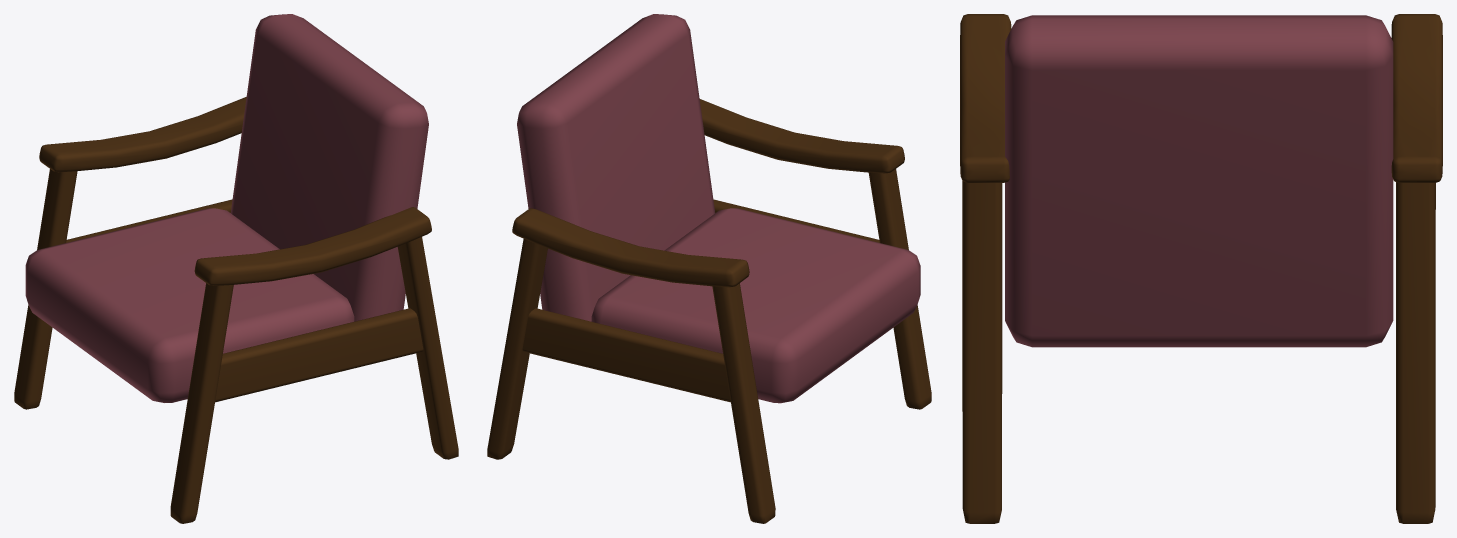
The model's file is armchair_08_red.fbx.
3 renders of one model, left to right at view 1: azimuth 30°, elevation 25°; view 2: azimuth 150°, elevation 25°; view 3: azimuth 270°, elevation 25°, orthographic. The views are drawn at different scales.
Visible parts, largest first — view 1: armchair_08_red; view 2: armchair_08_red; view 3: armchair_08_red.
Part boxes in pixels (x1=…): armchair_08_red: x1=14, y1=14, x2=458, y2=523; armchair_08_red: x1=487, y1=14, x2=931, y2=523; armchair_08_red: x1=960, y1=14, x2=1442, y2=523.
Size of the model in its own units: 94.97 by 109 by 99.4.
2 materials, 2 textured.
